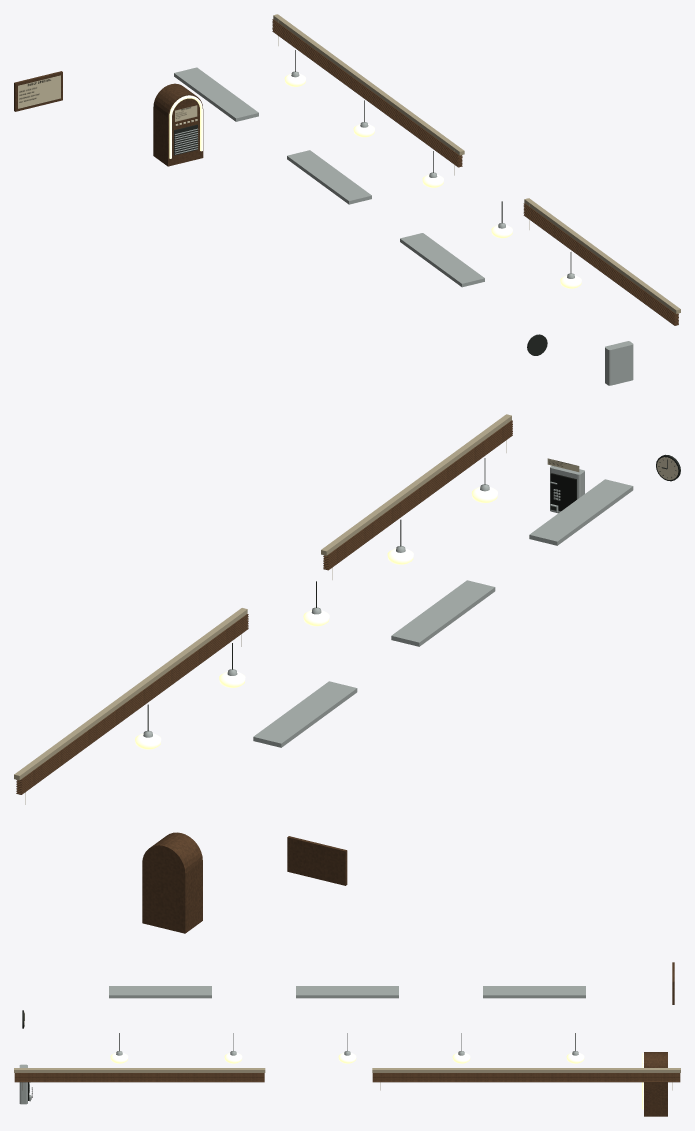
File: SM_Mesa_Fixtures.glb
The picture shows the model from 3 angles, top to bottom: view 1: azimuth 30°, elevation 25°; view 2: azimuth 150°, elevation 25°; view 3: azimuth 270°, elevation 25°; orthographic projection. The views are drawn at different scales.
Visible parts, largest first — view 1: SM_Mesa_Fixtures; view 2: SM_Mesa_Fixtures; view 3: SM_Mesa_Fixtures.
Boxes of the visible parts, x1,y1,x2,y2 form: SM_Mesa_Fixtures: (14, 14, 680, 385); SM_Mesa_Fixtures: (14, 414, 680, 933); SM_Mesa_Fixtures: (14, 962, 680, 1116).
Size of the model in its own units: 6.84 by 3.09 by 17.84.
Materials: 9 (2 with a texture image).
